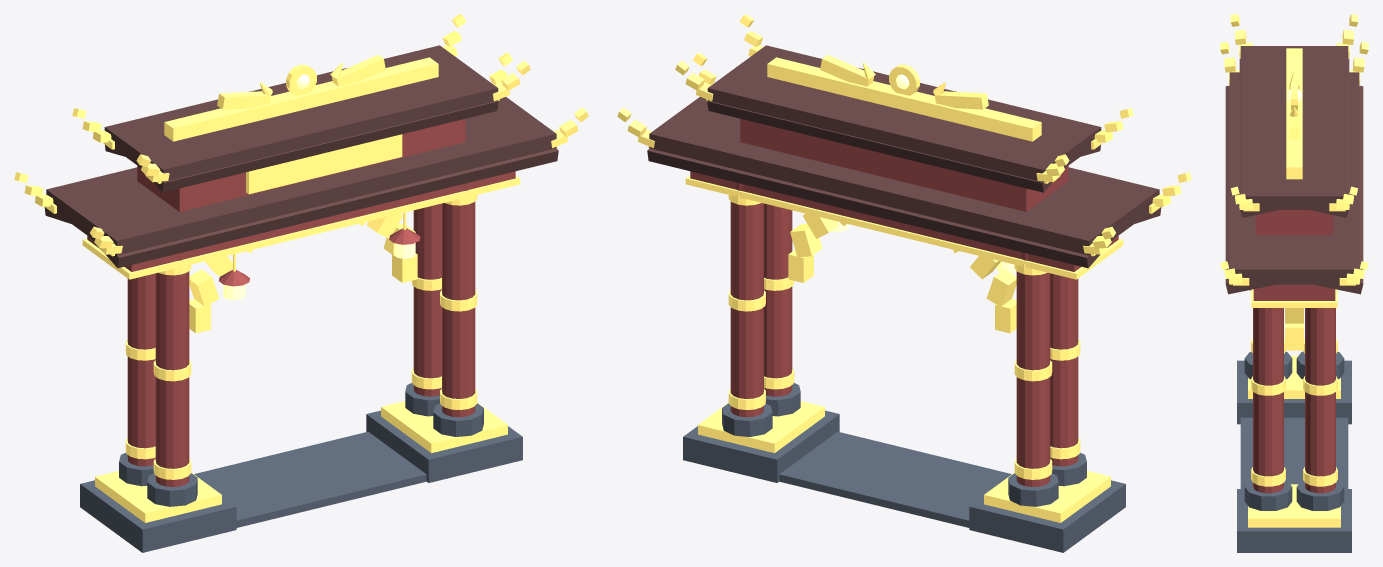
The model's file is portal_nhu_nguyet.glb.
3 renders of one model, left to right at view 1: azimuth 30°, elevation 25°; view 2: azimuth 150°, elevation 25°; view 3: azimuth 270°, elevation 25°, orthographic. The views are drawn at different scales.
Parts seen in each view (by area): view 1: Portal_Nhu_Nguyet; view 2: Portal_Nhu_Nguyet; view 3: Portal_Nhu_Nguyet.
Boxes of the visible parts, <box> form: Portal_Nhu_Nguyet: <box>14,14,588,552</box>; Portal_Nhu_Nguyet: <box>617,14,1191,552</box>; Portal_Nhu_Nguyet: <box>1220,14,1368,552</box>.
Size of the model in its own units: 7.11 by 5.72 by 2.
